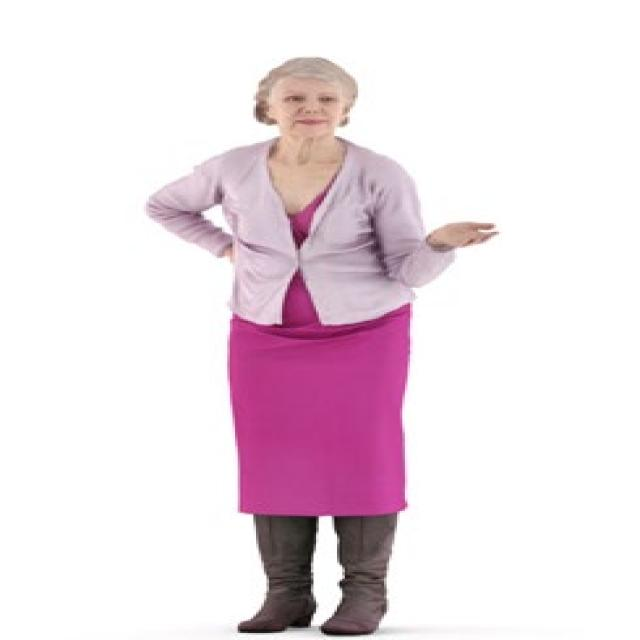standing: (136, 54, 499, 640)
